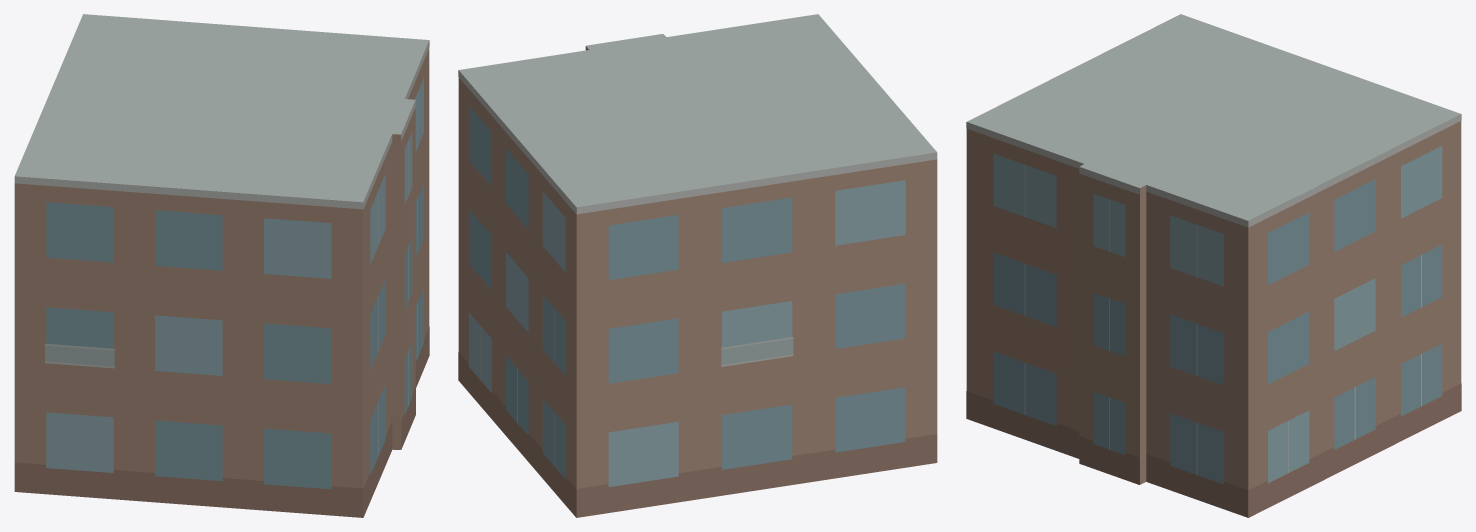
File: survey-upis-32708695.glb
3 views of the same model, side by side, from view 1: azimuth 30°, elevation 25°; view 2: azimuth 150°, elevation 25°; view 3: azimuth 270°, elevation 25° (orthographic). The views are drawn at different scales.
Visible parts, largest first — view 1: survey-upis-32708695.tmp; view 2: survey-upis-32708695.tmp; view 3: survey-upis-32708695.tmp.
Boxes of the visible parts, x1,y1,x2,y2 form: survey-upis-32708695.tmp: (14, 14, 429, 517); survey-upis-32708695.tmp: (458, 14, 937, 517); survey-upis-32708695.tmp: (966, 14, 1461, 517).
Bounding box in the file's own units: 16.31 × 10.9 × 16.48.
